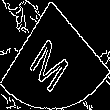M_NE: (31, 20, 79, 90)
